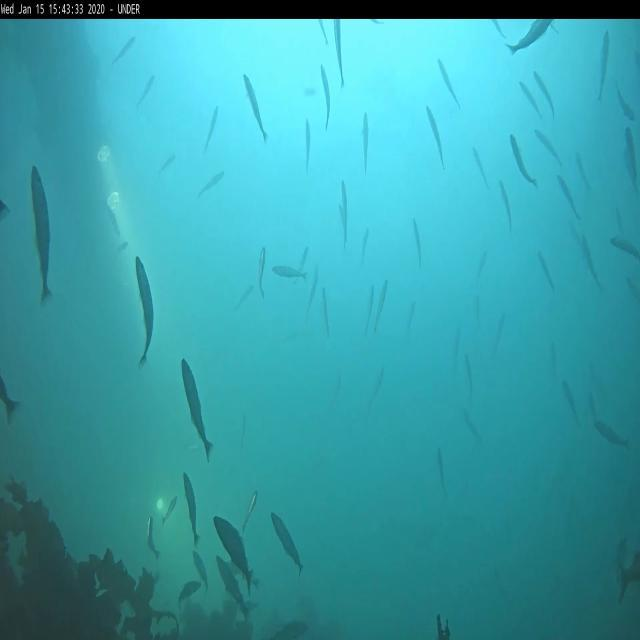fish: (32, 167, 54, 306), (184, 361, 214, 462), (215, 516, 252, 595), (216, 556, 252, 618), (137, 258, 155, 370), (272, 513, 303, 574), (243, 76, 268, 142), (508, 20, 556, 53), (510, 134, 538, 188), (184, 474, 200, 546), (534, 72, 556, 124), (427, 104, 444, 166), (438, 61, 460, 108), (534, 128, 562, 164), (556, 174, 580, 216), (594, 423, 628, 452), (1, 376, 22, 421), (333, 18, 345, 88), (520, 81, 543, 116), (580, 238, 598, 282), (610, 233, 640, 259), (624, 132, 638, 184), (192, 550, 210, 590), (374, 280, 388, 329), (617, 87, 636, 123), (242, 491, 258, 532), (562, 382, 578, 423), (536, 251, 554, 287), (320, 66, 330, 130), (198, 172, 225, 195), (205, 105, 218, 152), (500, 180, 512, 228), (598, 32, 606, 102), (234, 284, 254, 312), (178, 582, 200, 607), (461, 406, 479, 436), (273, 264, 305, 280), (575, 152, 590, 186), (114, 38, 136, 61), (146, 517, 158, 559), (362, 113, 370, 174), (372, 368, 384, 408), (139, 75, 154, 106), (340, 183, 348, 240), (404, 302, 416, 338), (163, 496, 178, 524), (473, 148, 486, 180), (308, 270, 317, 316), (366, 284, 374, 333), (494, 315, 504, 353), (463, 354, 472, 396), (322, 290, 330, 334), (414, 218, 421, 268), (299, 246, 310, 277), (437, 452, 445, 493), (160, 154, 178, 170), (626, 276, 638, 299), (478, 250, 488, 276), (492, 20, 506, 38), (305, 120, 310, 170), (259, 248, 264, 296), (320, 20, 328, 43), (362, 230, 368, 260), (457, 325, 460, 358), (618, 208, 622, 232), (478, 294, 478, 329)
